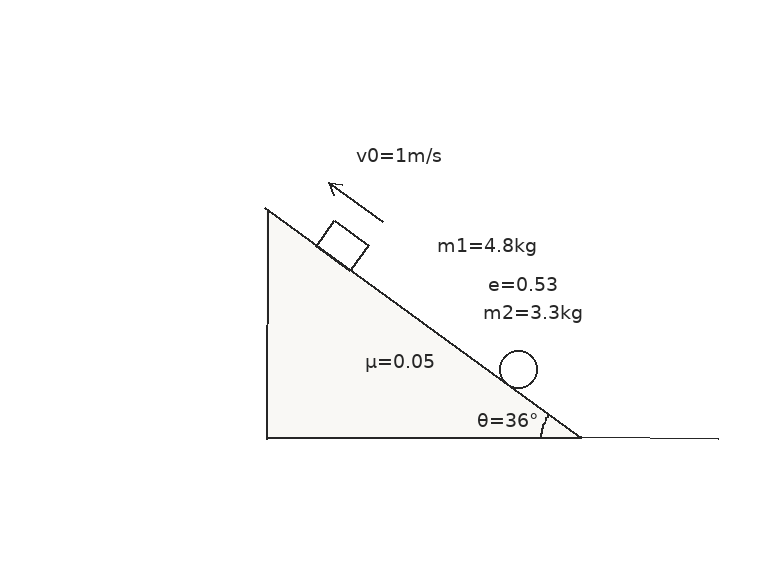ball: (497, 348, 539, 390)
block: (314, 219, 370, 272)
ramp: (264, 207, 583, 440)
